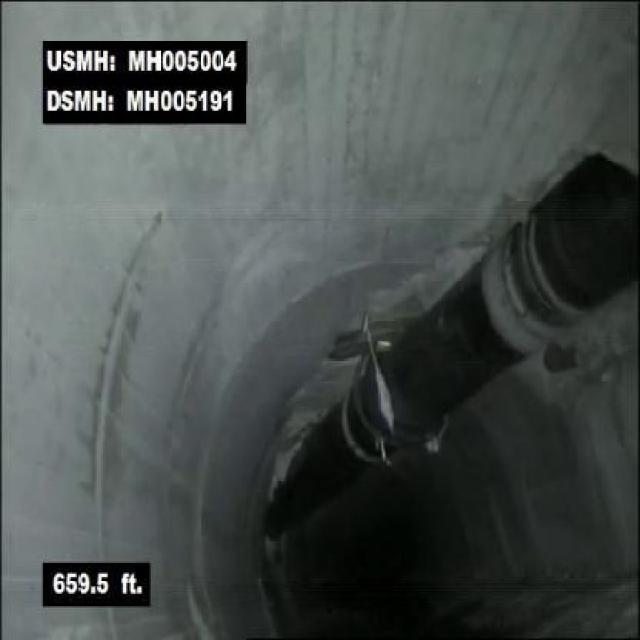Utility intrusion: (257, 138, 638, 551)
